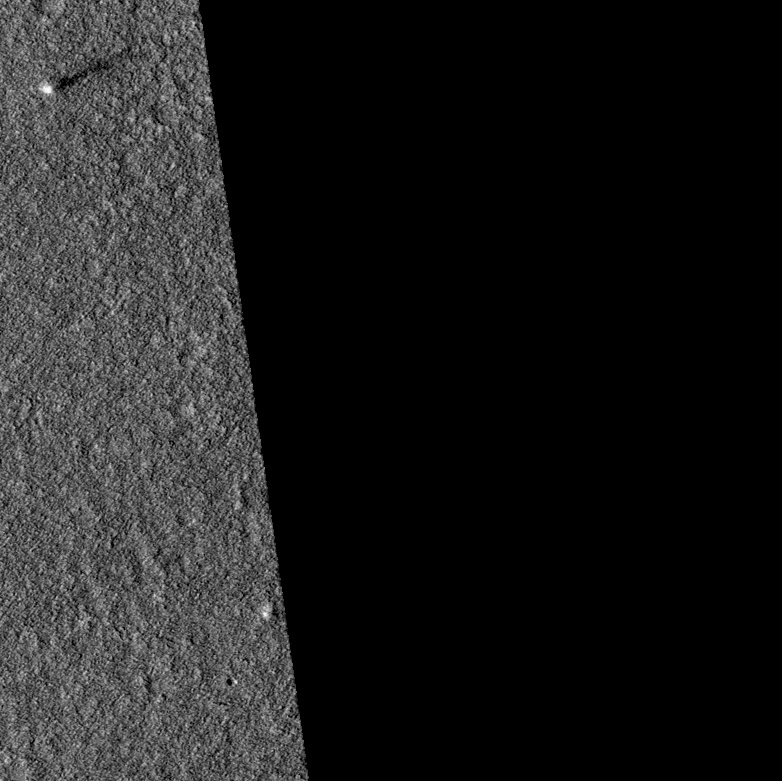dust_devil: (37, 57, 111, 95)
